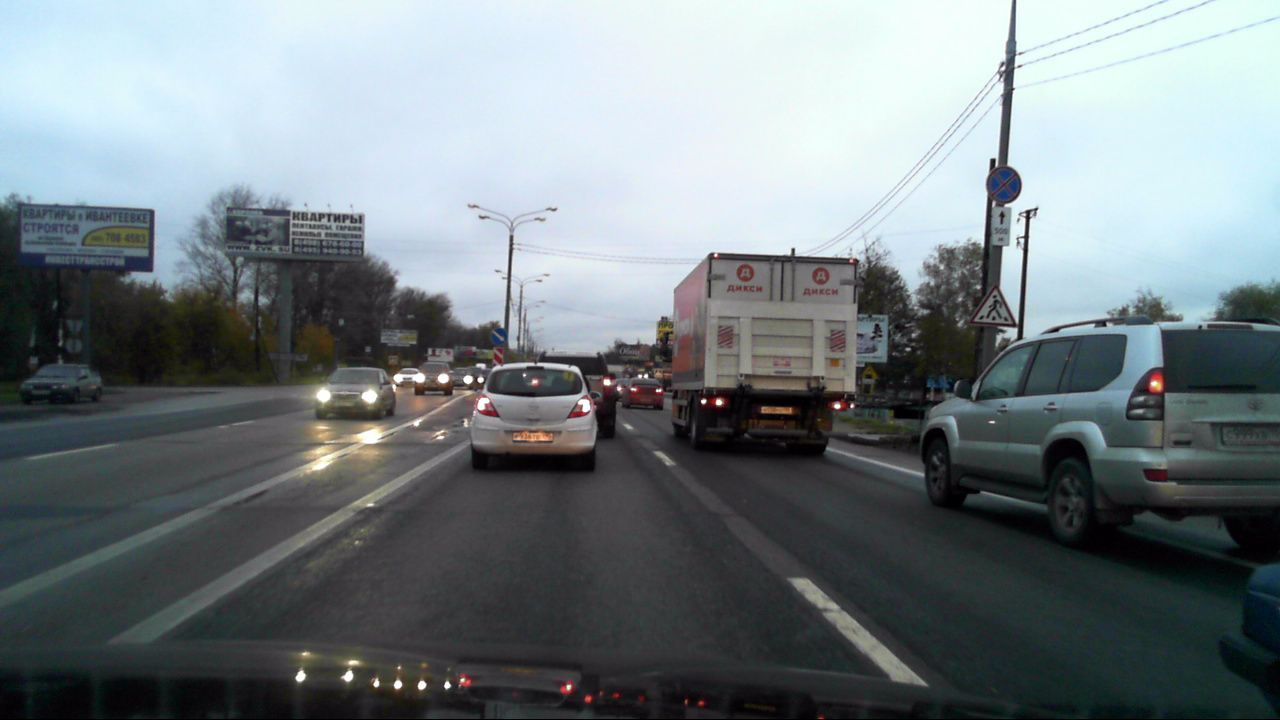No Parking: (985, 165, 1022, 204)
